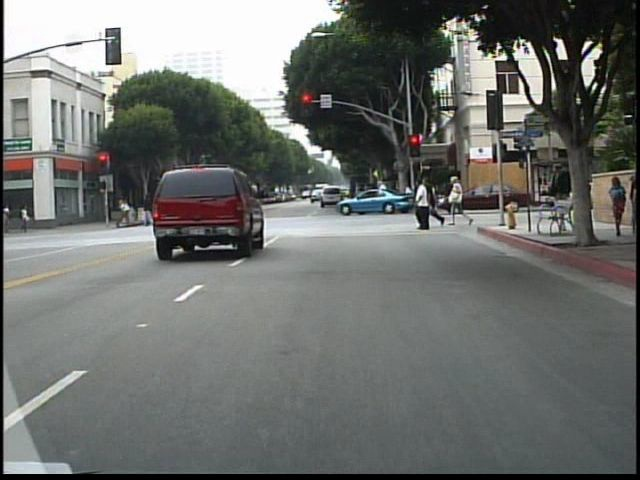person: (548, 160, 572, 228), (606, 171, 627, 238), (448, 174, 473, 229), (411, 178, 436, 231), (257, 180, 275, 232), (375, 177, 397, 215), (426, 178, 442, 227), (358, 181, 375, 214), (20, 202, 36, 237), (119, 194, 133, 231), (403, 180, 417, 214), (3, 200, 14, 235), (146, 192, 151, 230)
